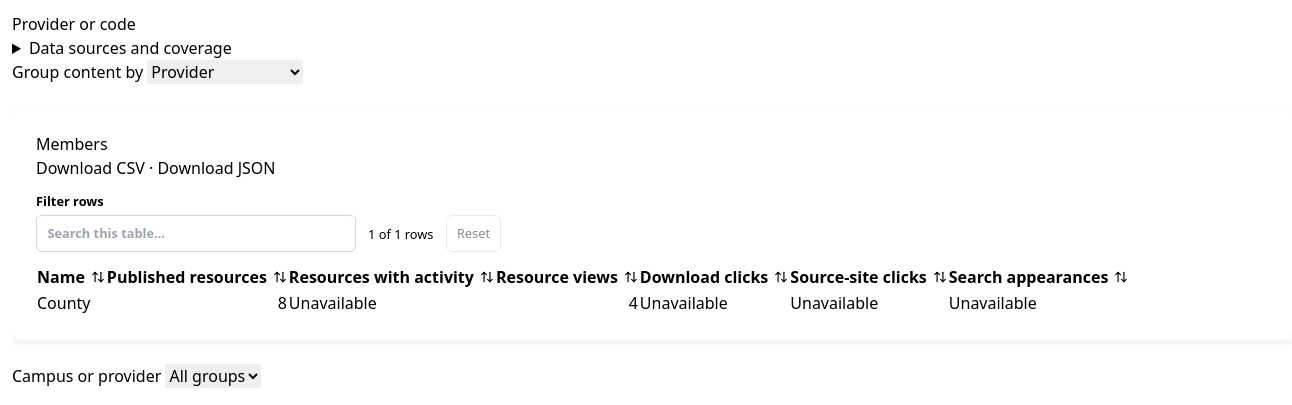
Scenario: runtime analytics › switches between provider and contribution groupings
The image size is (1292, 405).
Expected: the text "County" is shown, left=36, top=290, right=106, bottom=316
Select "Contribution code" in the dropdown labelled "Group content by" at (225,72), box left=147, top=60, right=303, bottom=84
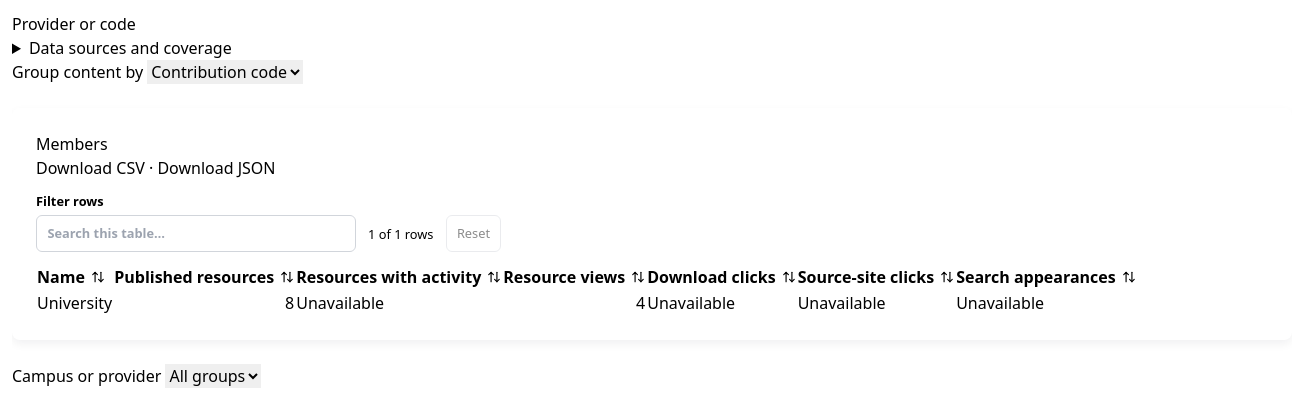
Expected: the text "University" is shown, left=36, top=290, right=113, bottom=316
Expected: the text "County" is gone
